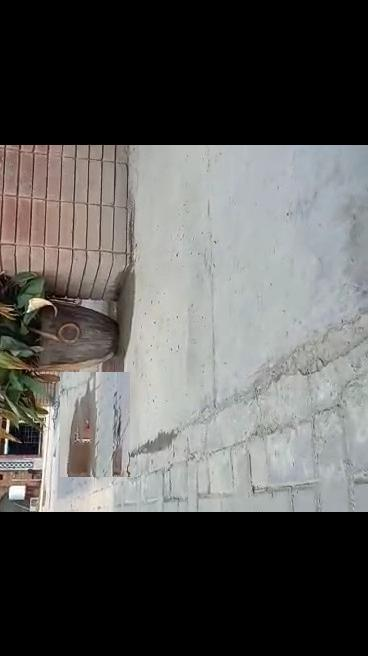water accumulation: (100, 268, 136, 374), (63, 380, 96, 477)
